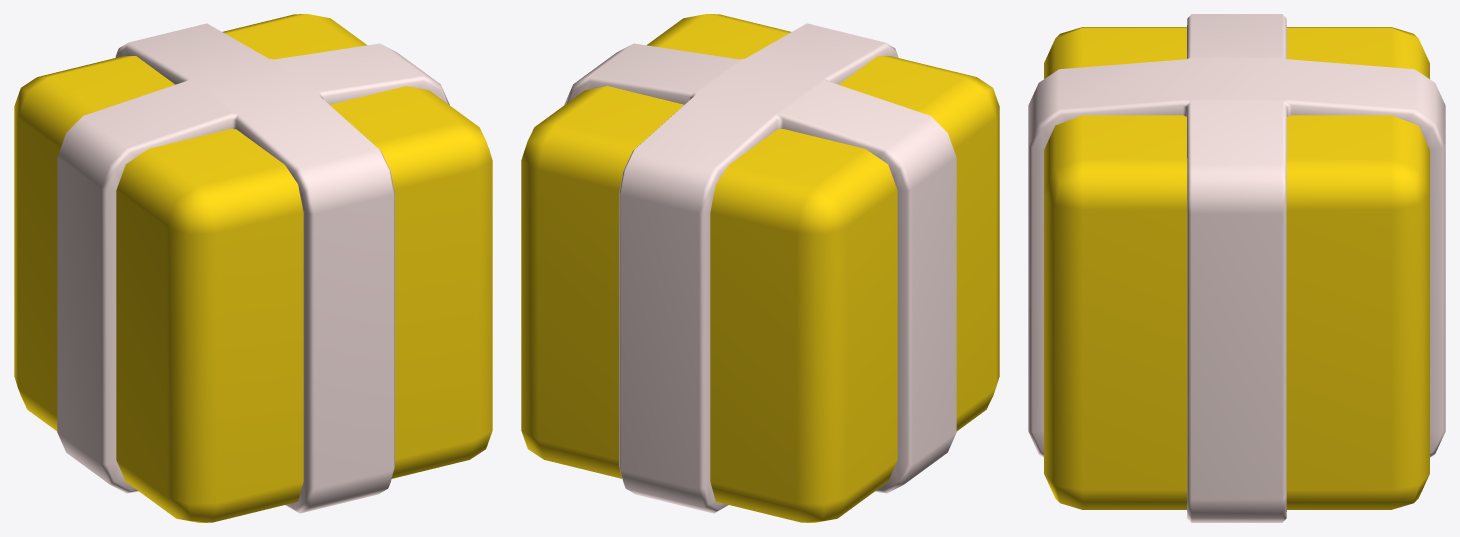
The model's file is Town_7_Package_2.glb.
3 renders of one model, left to right at view 1: azimuth 30°, elevation 25°; view 2: azimuth 150°, elevation 25°; view 3: azimuth 270°, elevation 25°, orthographic. The views are drawn at different scales.
Parts seen in each view (by area): view 1: Town_7_Package_2; view 2: Town_7_Package_2; view 3: Town_7_Package_2.
Boxes of the visible parts, left/top/right/bottom form: Town_7_Package_2: left=14, top=14, right=492, bottom=522; Town_7_Package_2: left=521, top=14, right=999, bottom=522; Town_7_Package_2: left=1028, top=14, right=1445, bottom=522.
Size of the model in its own units: 0.1835 by 0.1835 by 0.1834.
Materials: 1 (1 with a texture image).
